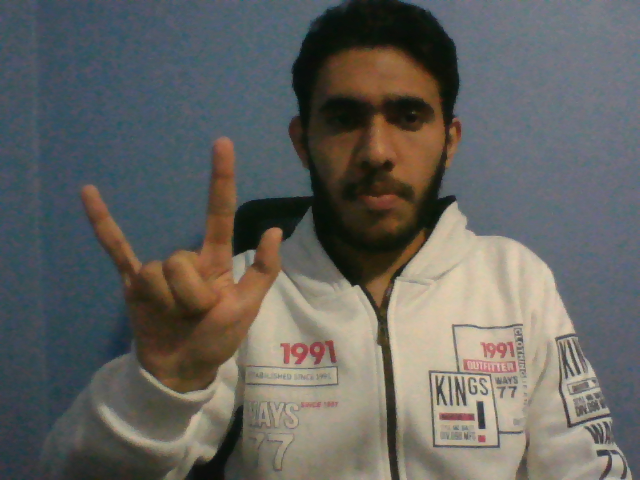iloveyou: (76, 132, 287, 383)
